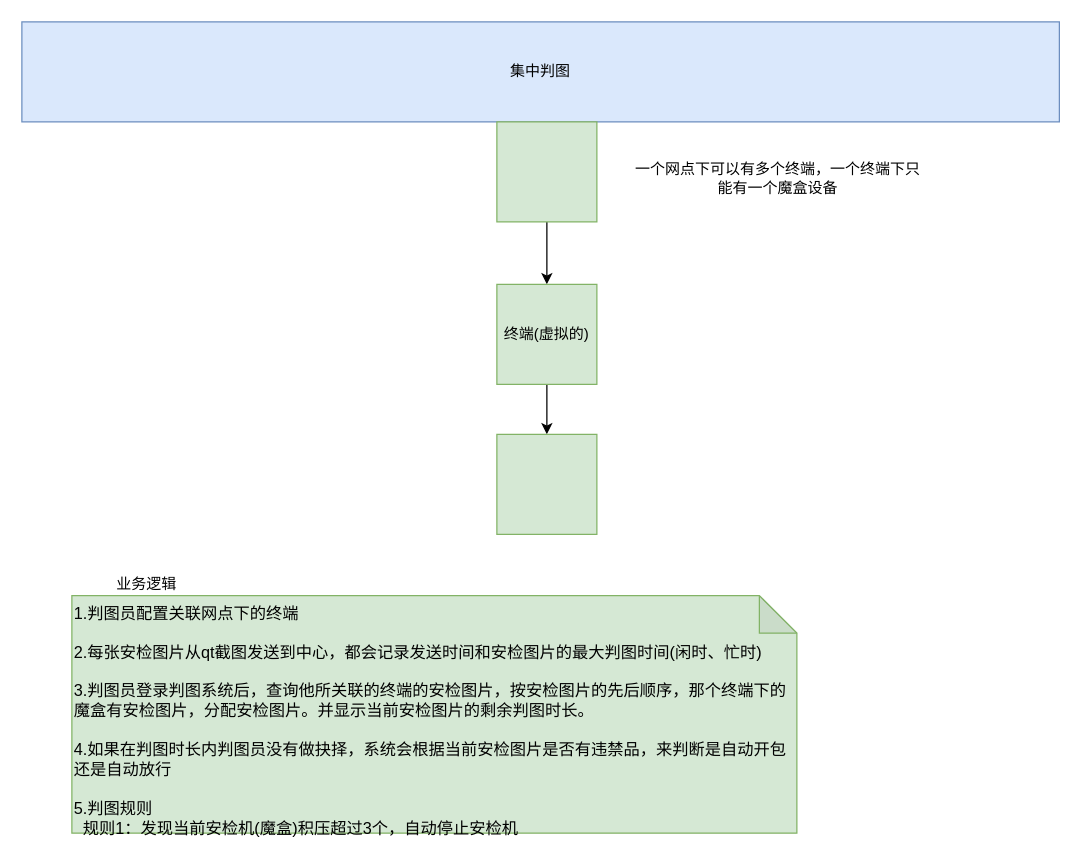
Some shapes in this 1081 by 860 pixel diagram are drawn without their labels. Each missing label, with the centre of its shape:
"网点" goes at point 546,171.
"魔盒设备" goes at point 546,483.
